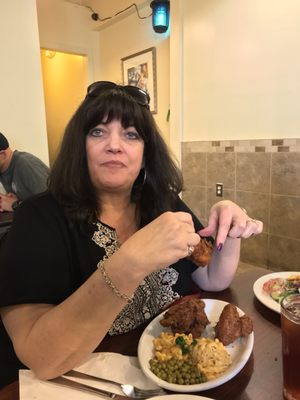pizza: (279, 293, 300, 400)
sushi: (137, 296, 254, 394)
